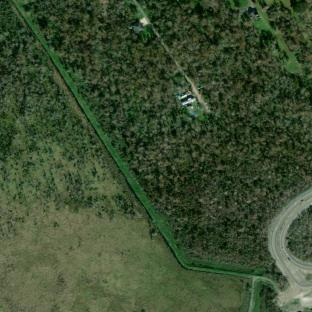Floresta: (25, 0, 312, 271), (266, 1, 312, 63), (287, 206, 312, 261), (252, 281, 283, 312)
